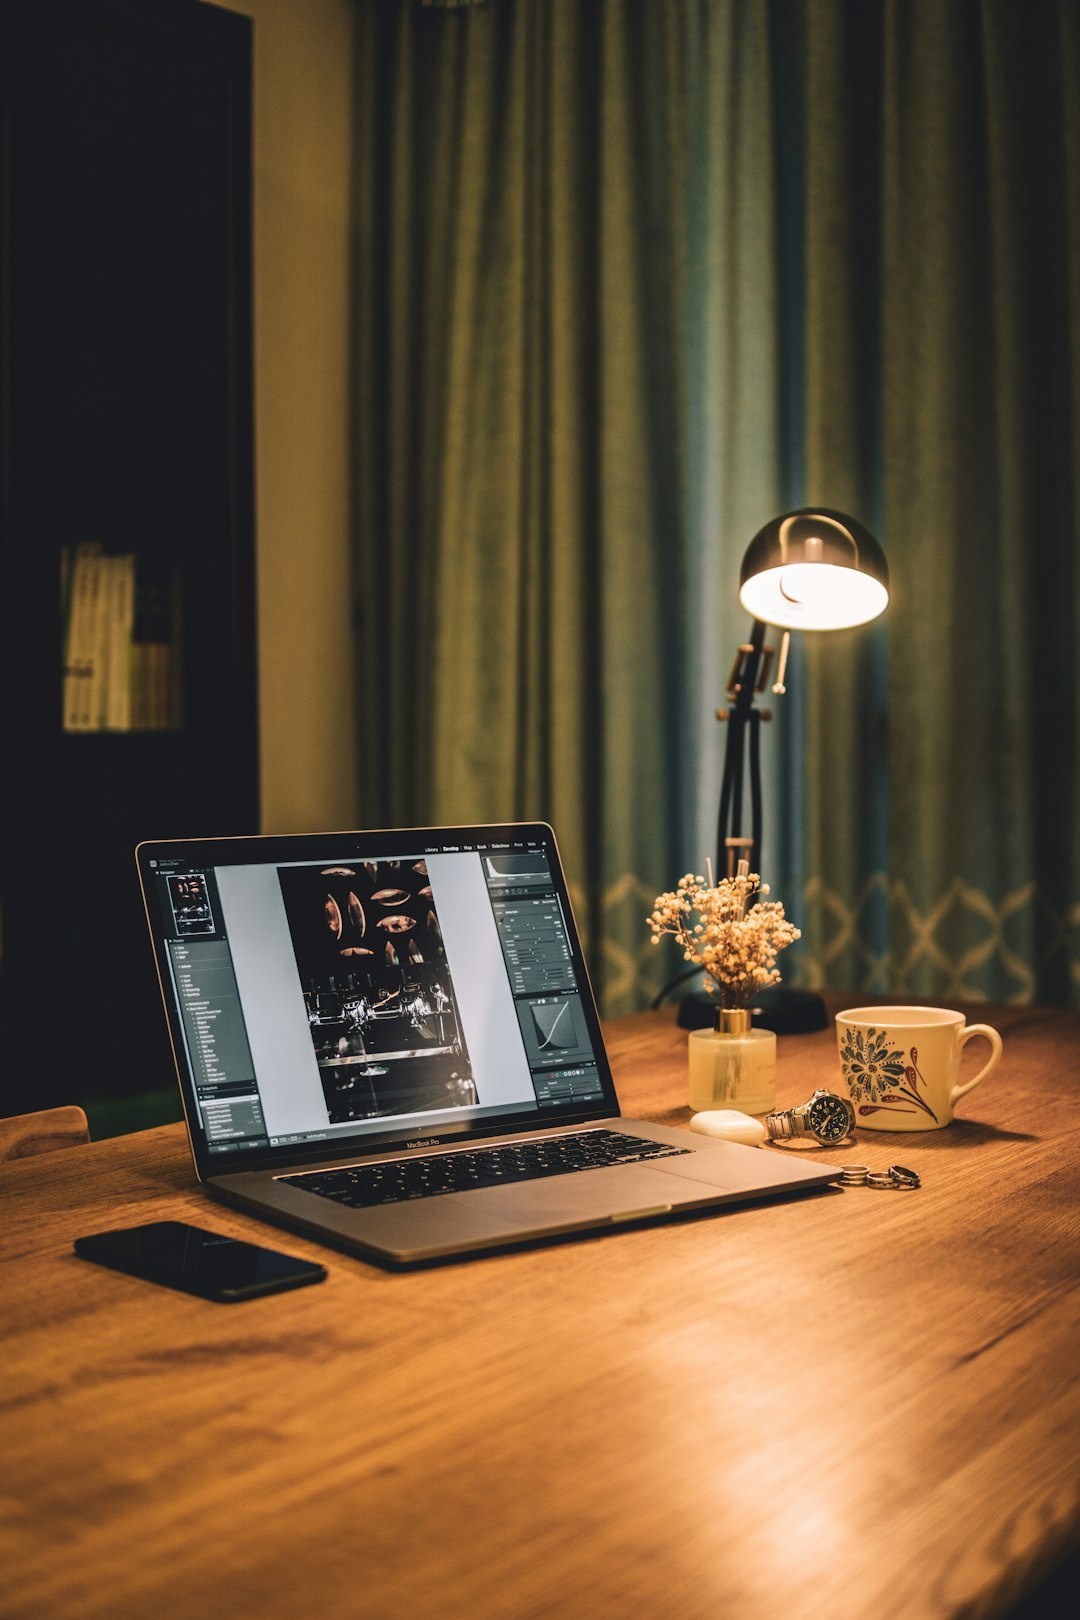laptop: (115, 787, 898, 1282)
